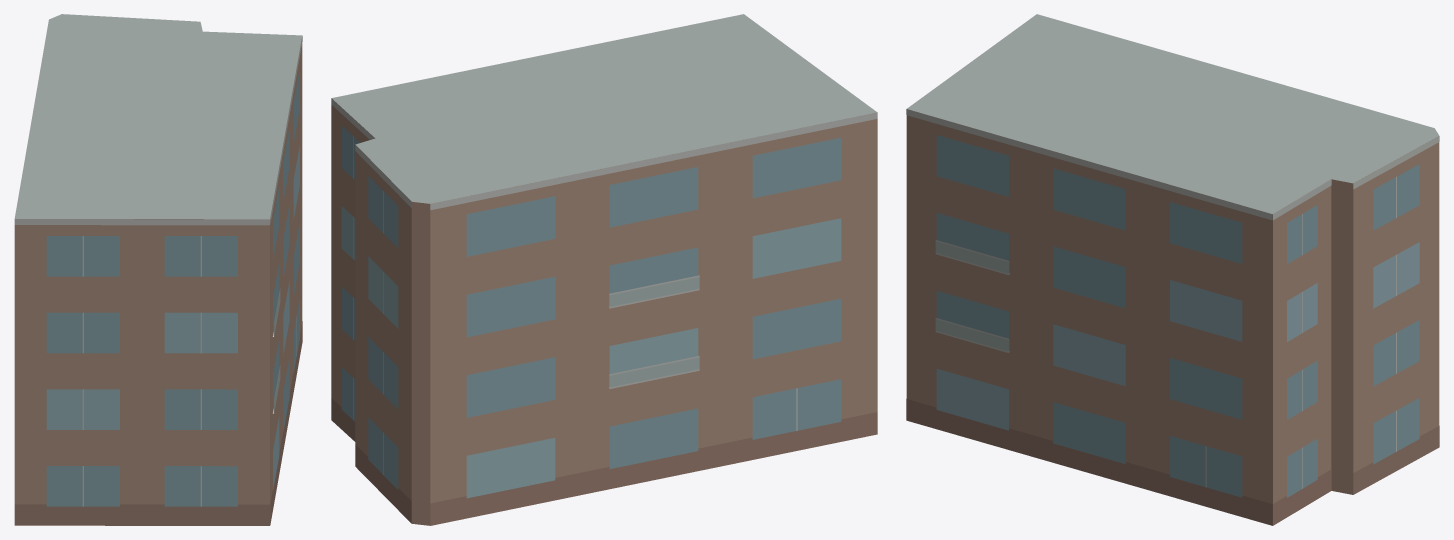
Rendered from survey-upis-32641114.glb.
3 renders of one model, left to right at view 1: azimuth 30°, elevation 25°; view 2: azimuth 150°, elevation 25°; view 3: azimuth 270°, elevation 25°, orthographic. The views are drawn at different scales.
Parts seen in each view (by area): view 1: survey-upis-32641114.tmp; view 2: survey-upis-32641114.tmp; view 3: survey-upis-32641114.tmp.
Part boxes in pixels (bbox=[...]): survey-upis-32641114.tmp: bbox=[14, 14, 302, 525]; survey-upis-32641114.tmp: bbox=[331, 14, 877, 525]; survey-upis-32641114.tmp: bbox=[906, 14, 1439, 525].
Size of the model in its own units: 16.82 by 12.2 by 18.92.
